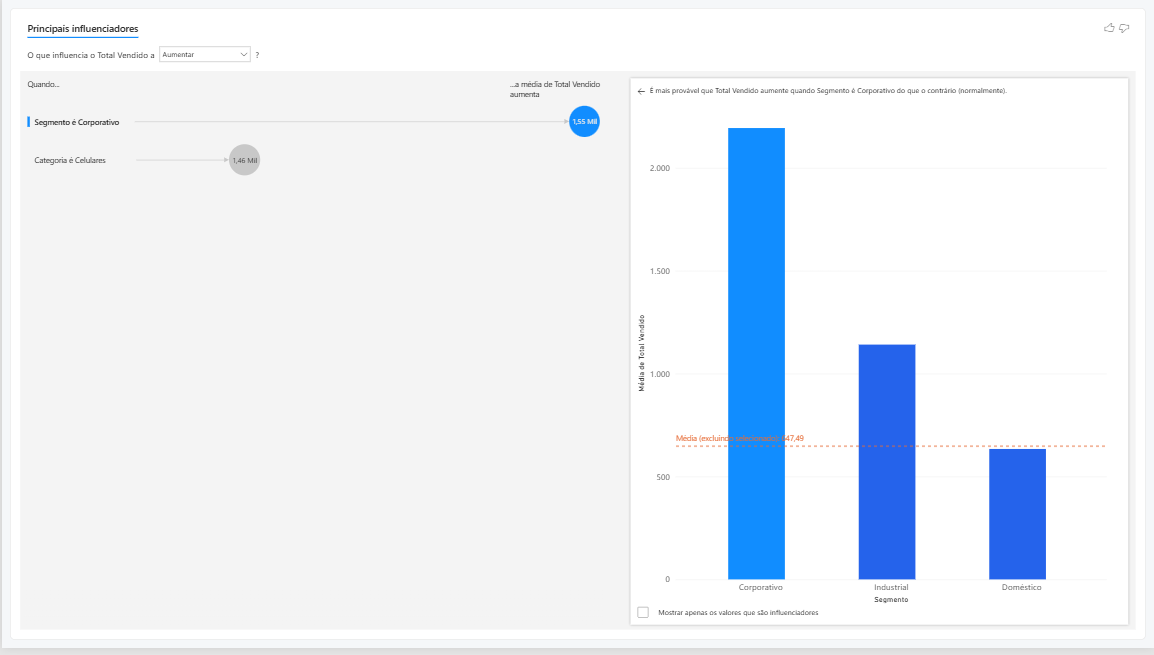

This screenshot's page, from the dashboard's own definition file:
{"tool":"powerbi","page":{"name":"Principais Influenciadores de Vendas","canvas":[1920,1080],"ordinal":2},"visuals":[{"type":"keyDriversVisual","fields":{"ExplainBy":["Vendas.Segmento","Vendas.Categoria"],"Target":["Vendas.ValorVenda"]},"box":[13.3,13.3,1893.3,1053.3],"z":0}]}

Visuals, with their boxes in screenshot pixels (x1, y1, x2, y2), scaled from the page's 1920x1080 canvas onto the 1154x655 screenshot:
keyDriversVisual - Vendas.Segmento x Vendas.Categoria: [left=8, top=8, right=1146, bottom=647]
